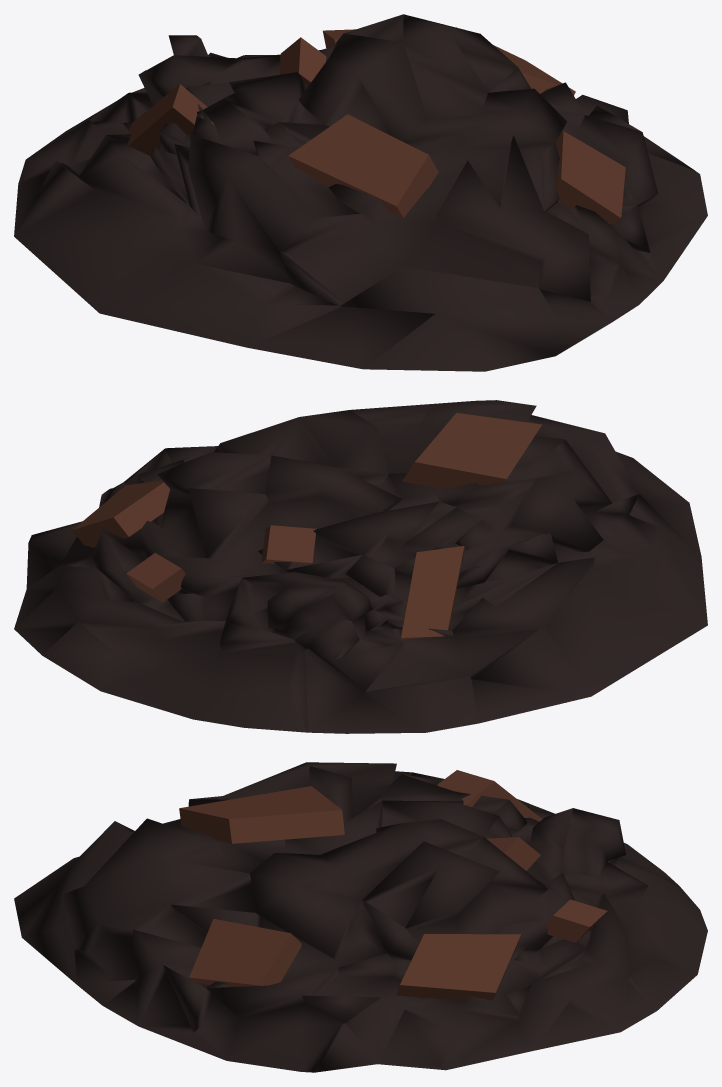
The model's file is pile_c.gltf.
3 views of the same model, one above another, from view 1: azimuth 30°, elevation 25°; view 2: azimuth 150°, elevation 25°; view 3: azimuth 270°, elevation 25° (orthographic). The views are drawn at different scales.
Parts seen in each view (by area): view 1: Pile_C; view 2: Pile_C; view 3: Pile_C.
Part boxes in pixels (x1=…): Pile_C: x1=14, y1=14, x2=707, y2=371; Pile_C: x1=14, y1=400, x2=707, y2=733; Pile_C: x1=14, y1=762, x2=707, y2=1072.
Bounding box in the file's own units: 5.41 × 1.29 × 5.85.
